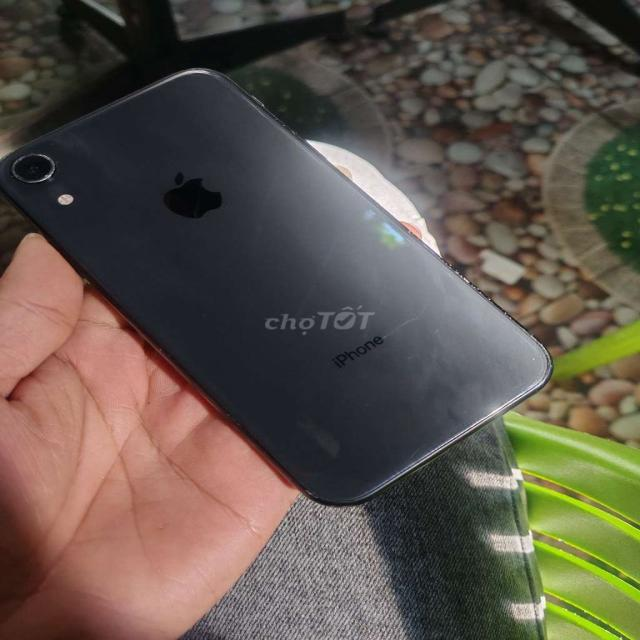gen_x_xs: (0, 69, 551, 504)
scratch: (436, 252, 488, 302), (8, 154, 72, 185), (399, 220, 425, 248), (292, 484, 329, 503), (521, 349, 545, 371), (499, 306, 519, 324), (530, 330, 544, 341)
